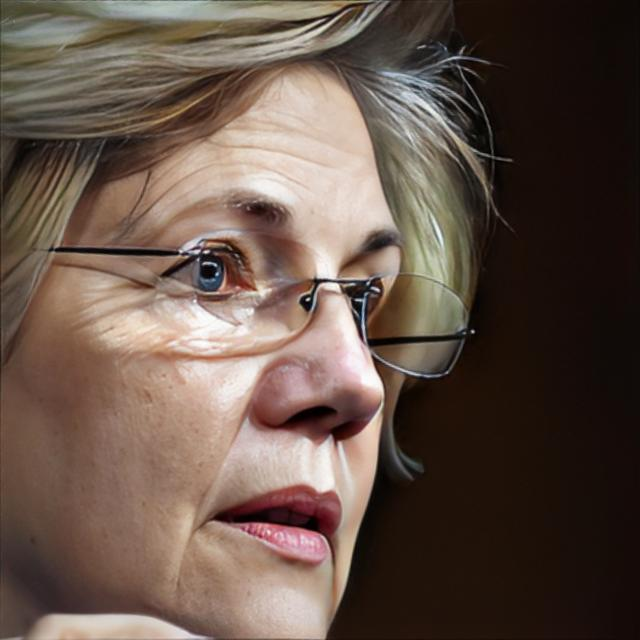surprise: (0, 38, 405, 640)
